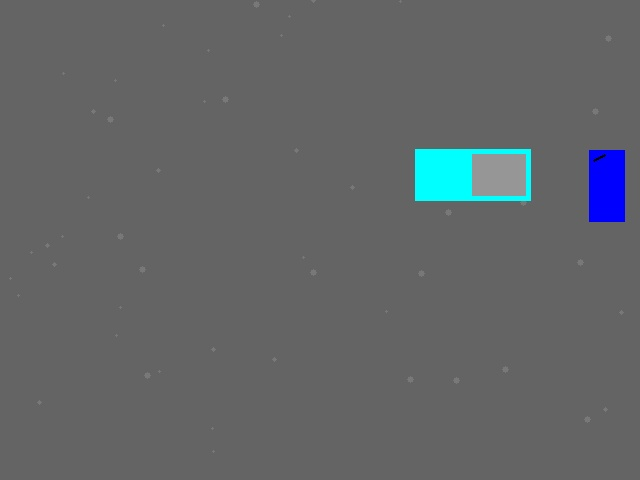motorcycle: (589, 150, 624, 221)
truck: (415, 149, 530, 200)
